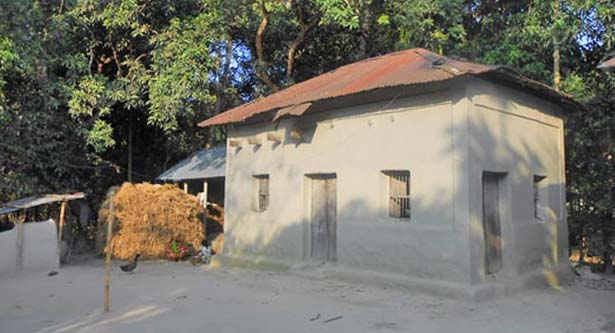Mud House: (193, 39, 584, 301)
